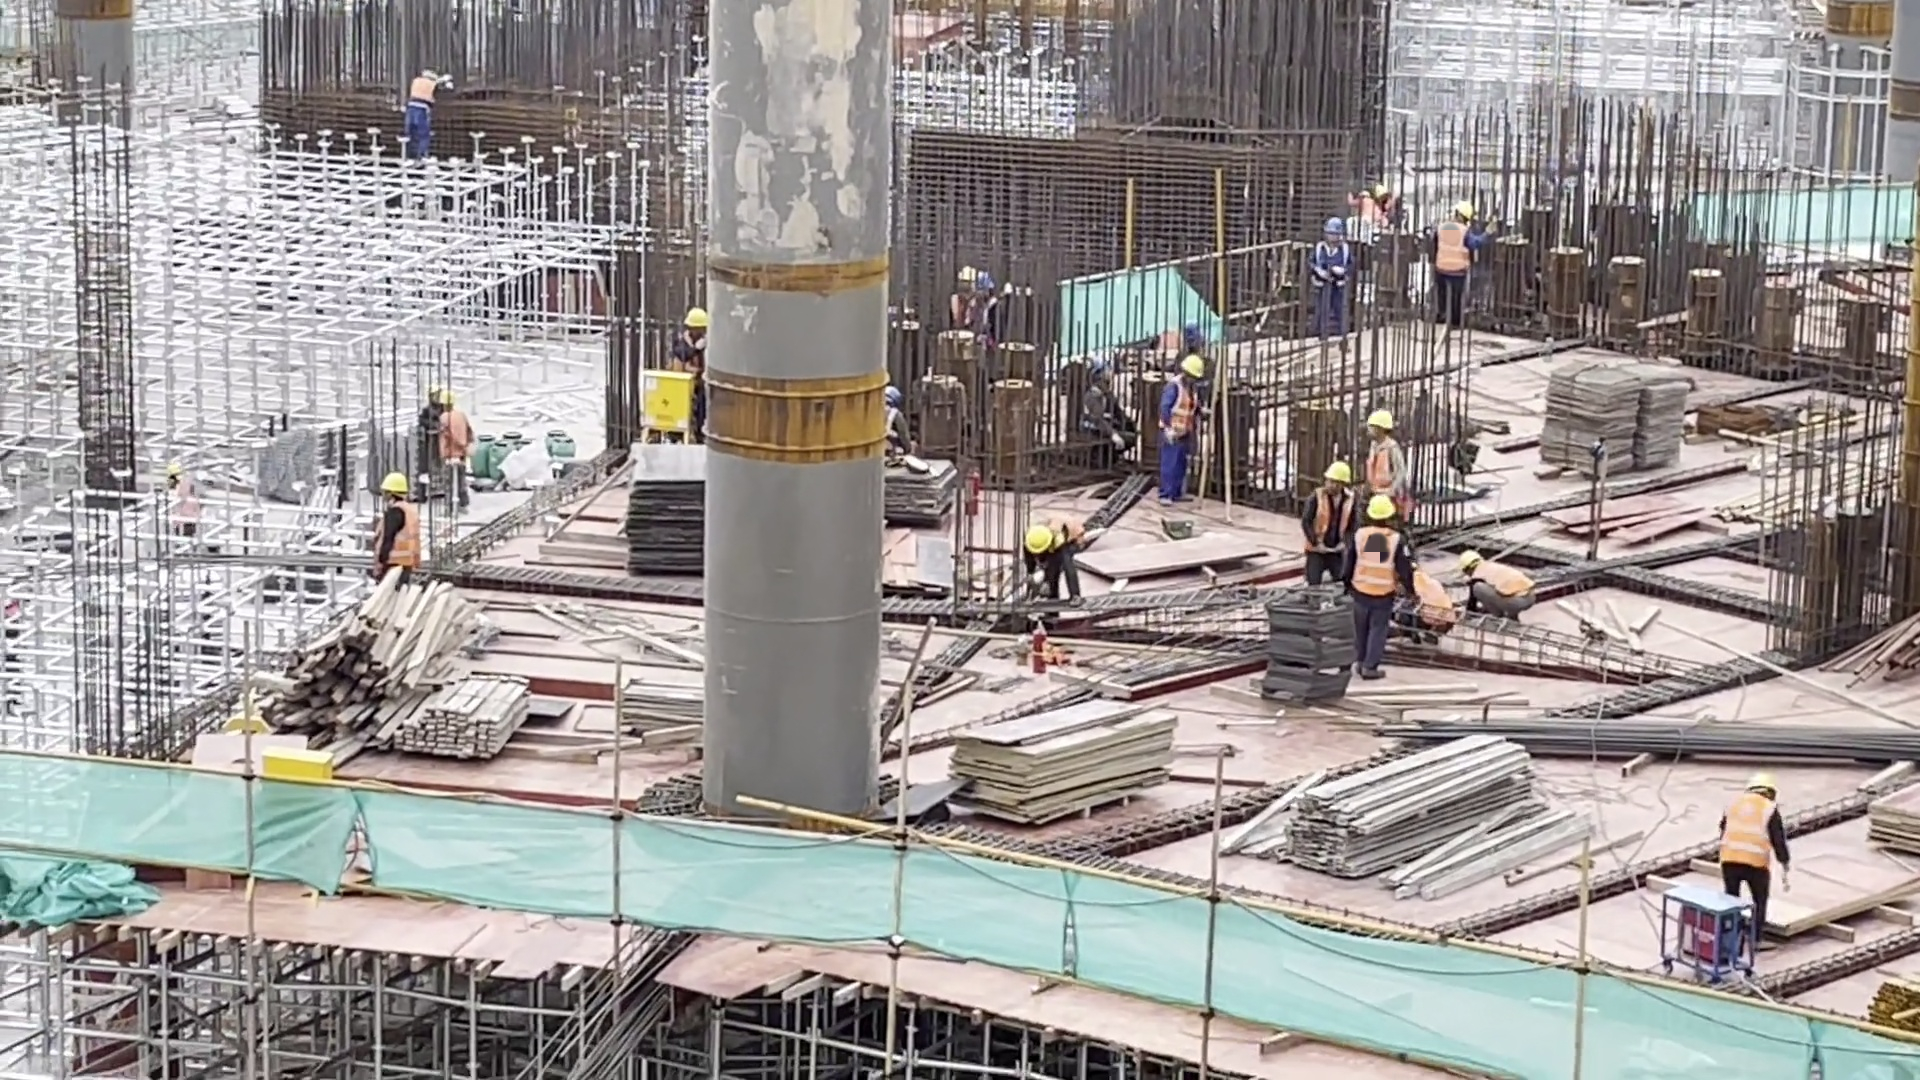helmet: (1743, 768, 1782, 800), (378, 467, 411, 496), (1023, 522, 1052, 555), (1366, 493, 1399, 521), (1365, 407, 1398, 432), (1324, 459, 1353, 483), (1458, 546, 1480, 572)
person: (1717, 770, 1788, 952), (1358, 492, 1417, 688), (1151, 352, 1211, 508), (1435, 203, 1498, 334), (1453, 543, 1538, 621), (377, 468, 428, 594), (1302, 459, 1353, 583), (1026, 508, 1089, 605), (1360, 406, 1415, 514), (1313, 212, 1357, 341), (1086, 363, 1140, 466), (400, 61, 453, 161), (435, 390, 473, 514), (673, 296, 713, 361), (884, 381, 915, 457), (942, 268, 975, 334), (980, 268, 1004, 354), (1348, 188, 1386, 230)
vest: (1720, 795, 1778, 870), (1304, 485, 1351, 551), (379, 496, 421, 570), (1355, 526, 1398, 596), (1435, 218, 1473, 279), (1475, 559, 1536, 596), (1415, 572, 1456, 625), (1314, 238, 1349, 287)
